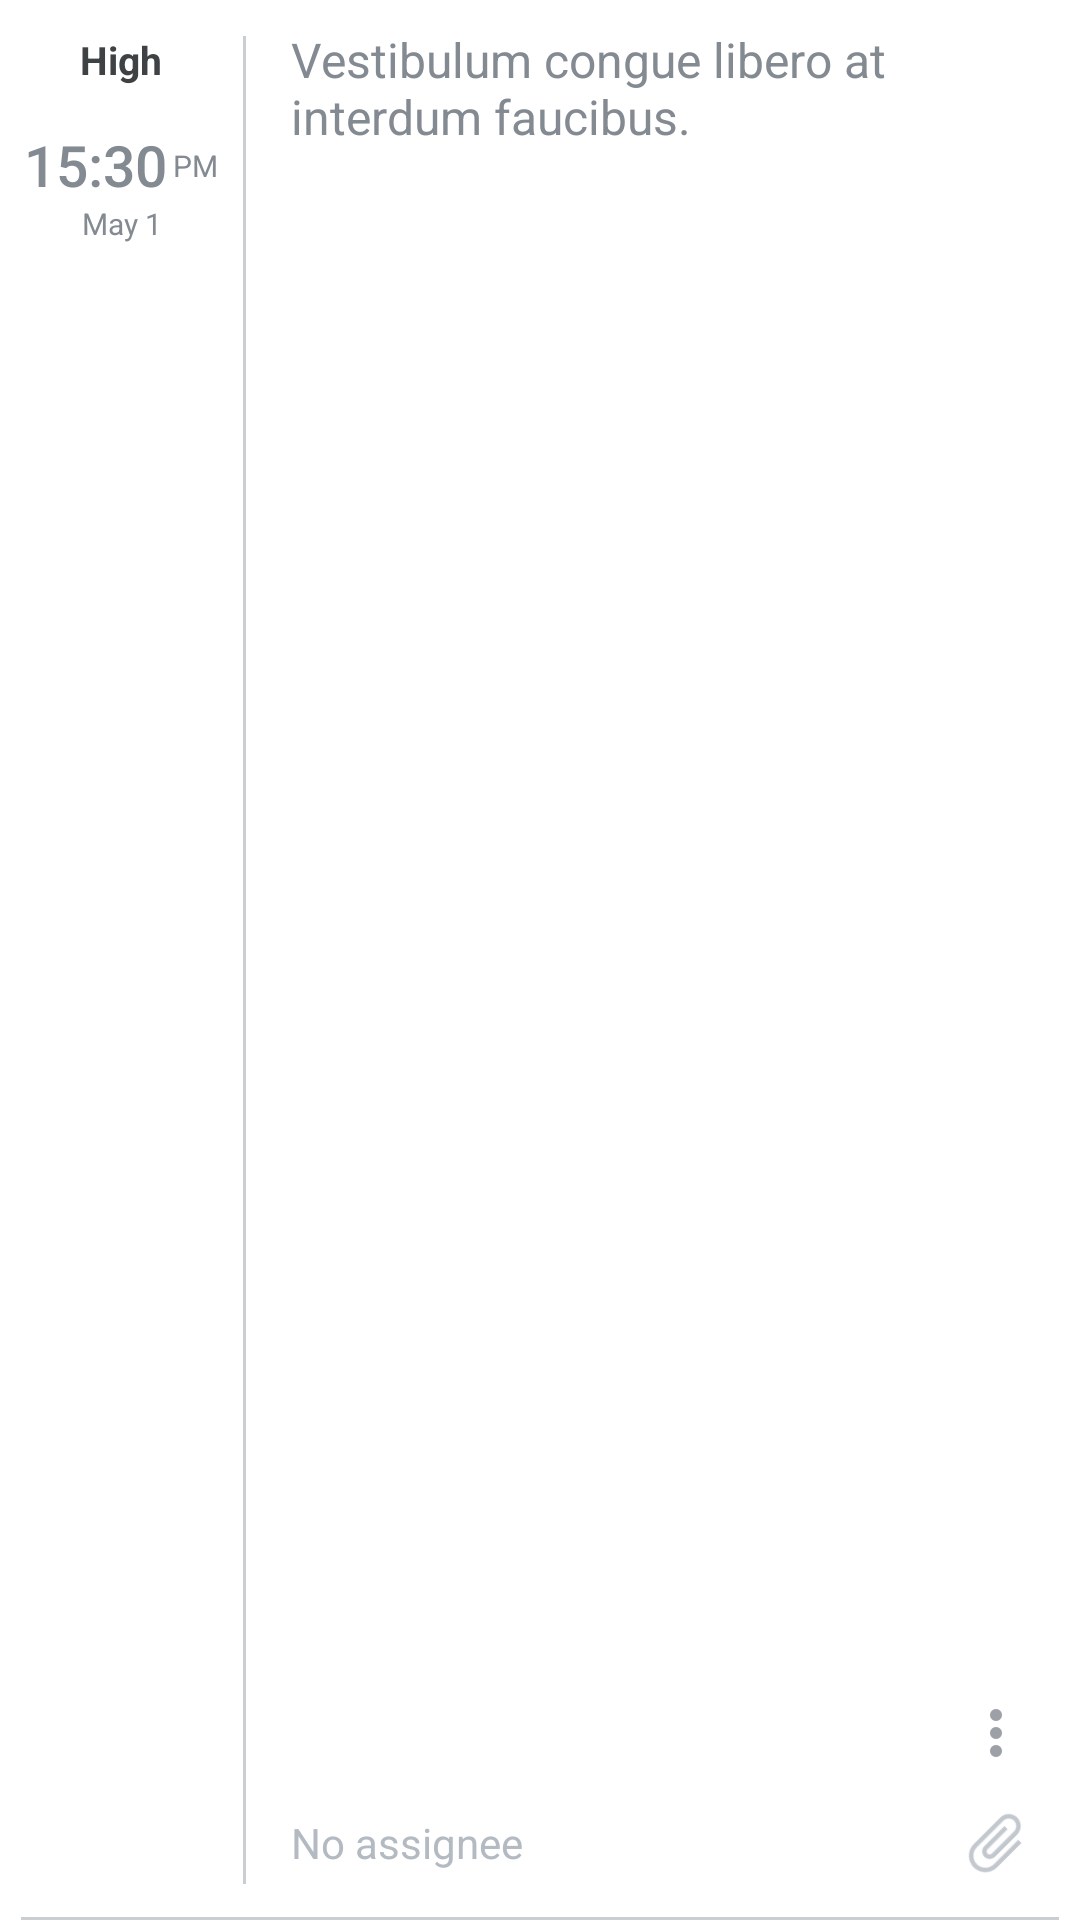

Point at icon controls on the screen. Image size 1080×1920, points as (x=x, y=y).
task more: (x=996, y=1733)
